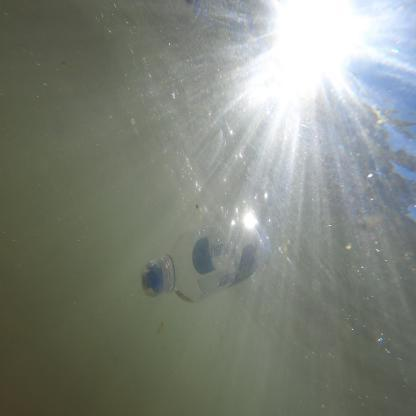Rác: (140, 172, 375, 358)
